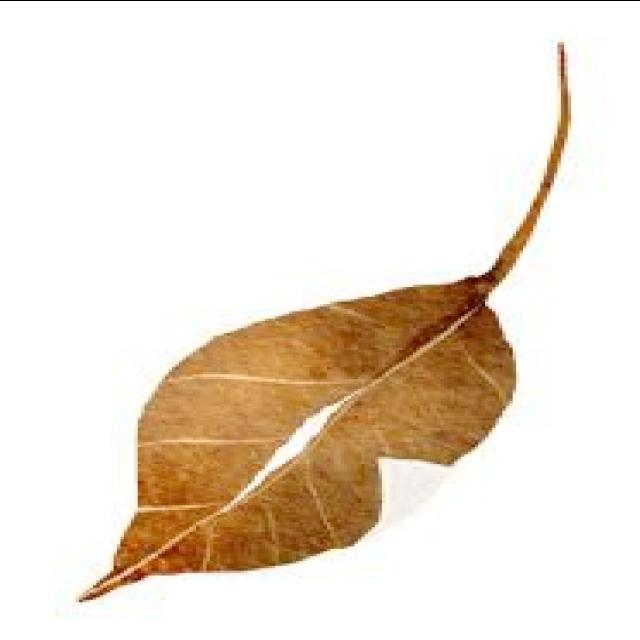leaf: (76, 40, 572, 602)
